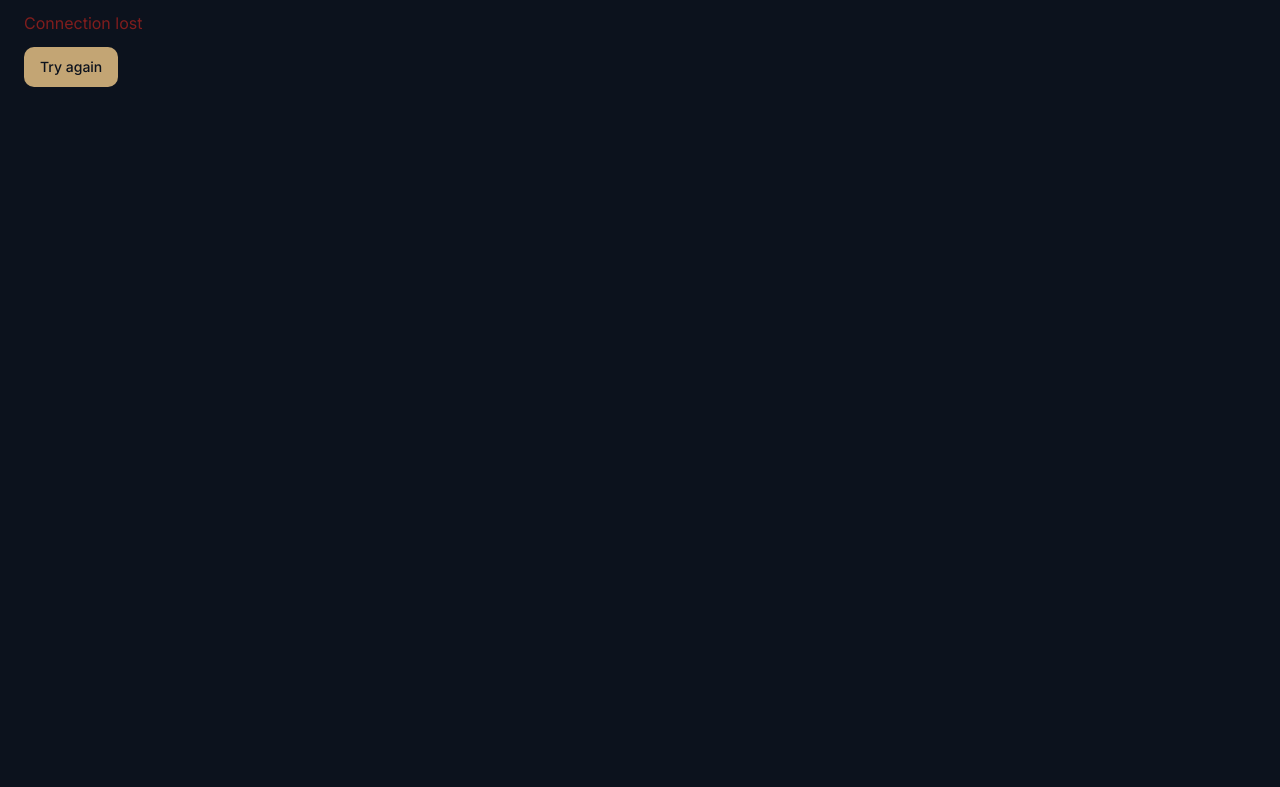
Scenario: website design editor › offers retry when existing settings cannot be loaded
This screenshot has width=1280, height=787.
Expected: the message "Connection lost Try again" is shown, 24,13 -> 142,87
Click the button "Try again".
click(71, 67)  # box 24,47 -> 118,87
(page scrolled)
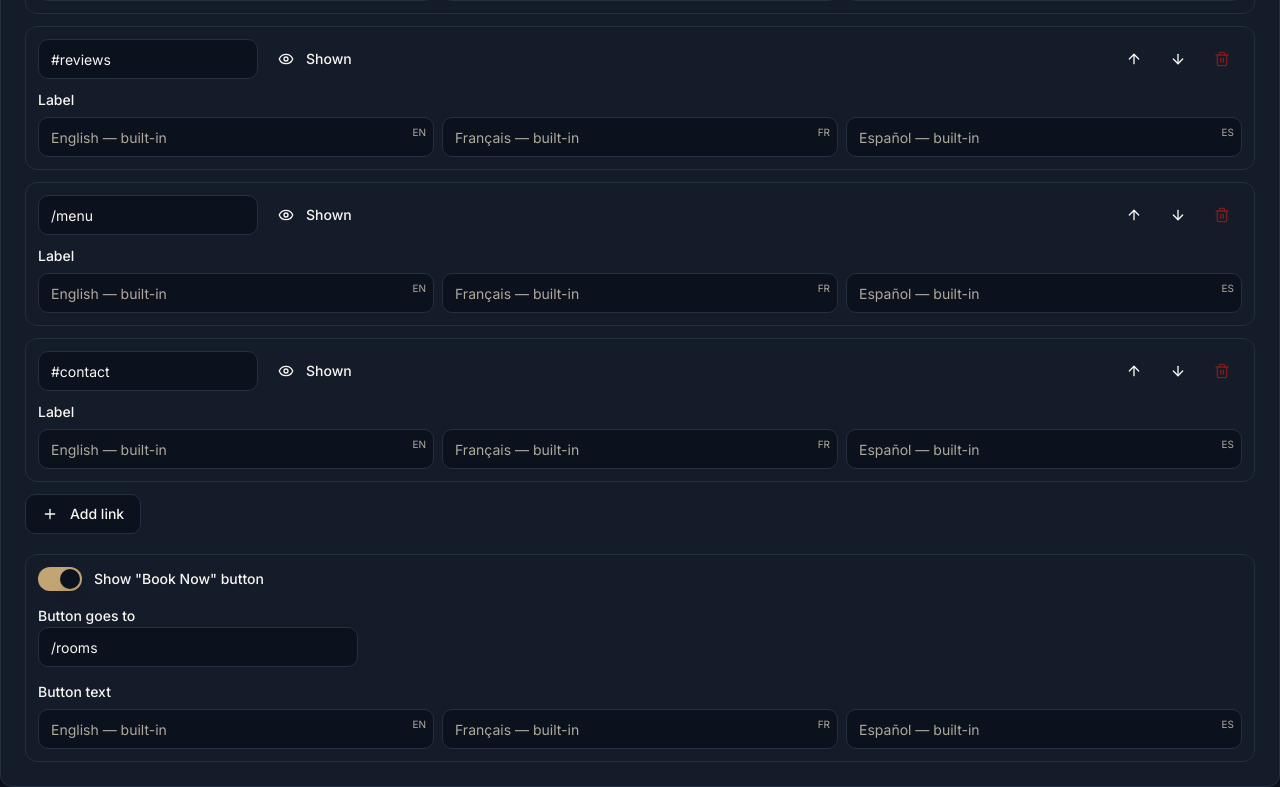
Expected: the button "Add link" is shown, 25,494 -> 141,534
